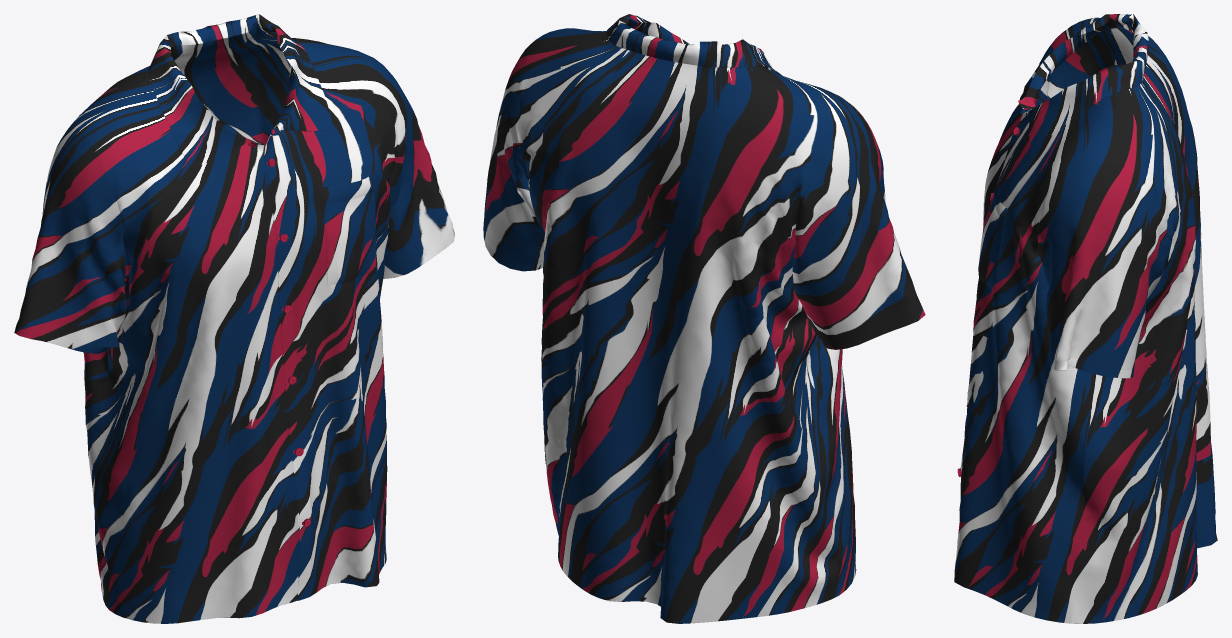
Rendered from fourth-of-july.glb.
3 views of the same model, side by side, from view 1: azimuth 30°, elevation 25°; view 2: azimuth 150°, elevation 25°; view 3: azimuth 270°, elevation 25° (orthographic). The views are drawn at different scales.
Parts seen in each view (by area): view 1: Object_6, Object_13, Object_3, Object_5, Object_12, Object_4, Object_11, Object_8, Object_7; view 2: Object_3, Object_13, Object_6, Object_12, Object_5, Object_8; view 3: Object_3, Object_6, Object_12, Object_5, Object_13, Object_11, Object_7, Object_4.
Part boxes in pixels (x1,y1,x2,y2): Object_6: (78, 40, 398, 623); Object_13: (16, 127, 128, 347); Object_3: (67, 37, 331, 609); Object_5: (144, 14, 333, 169); Object_12: (375, 59, 452, 271); Object_4: (245, 124, 311, 600); Object_11: (319, 175, 376, 285); Object_8: (14, 325, 111, 353); Object_7: (383, 227, 454, 278); Object_3: (515, 33, 840, 623); Object_13: (792, 111, 921, 342); Object_6: (532, 28, 861, 594); Object_12: (483, 40, 544, 264); Object_5: (602, 14, 782, 81); Object_8: (820, 307, 925, 349); Object_3: (1071, 30, 1217, 623); Object_6: (954, 17, 1116, 623); Object_12: (1037, 163, 1171, 370); Object_5: (1024, 14, 1150, 154); Object_13: (1037, 28, 1133, 104); Object_11: (978, 180, 1008, 298); Object_7: (1050, 358, 1134, 378); Object_4: (960, 96, 1035, 479).
Bounding box in the file's own units: 0.589 × 0.7019 × 0.3166.
Materials: 2 (1 with a texture image).
